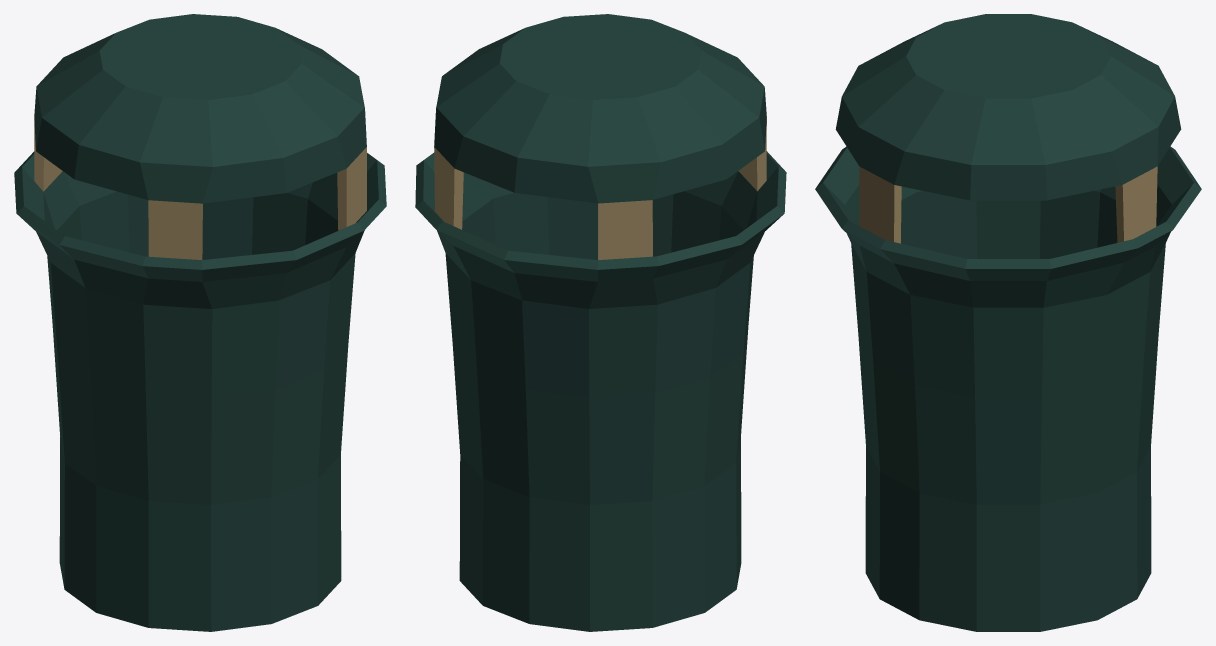
Rendered from trashcan1.fbx.
3 renders of one model, left to right at view 1: azimuth 30°, elevation 25°; view 2: azimuth 150°, elevation 25°; view 3: azimuth 270°, elevation 25°, orthographic.
Visible parts, largest first — view 1: Cylinder; view 2: Cylinder; view 3: Cylinder.
Part boxes in pixels (x1,y1,x2,y2): Cylinder: [14, 14, 386, 631]; Cylinder: [415, 14, 786, 631]; Cylinder: [815, 14, 1201, 631].
Size of the model in its own units: 282 by 426 by 289.
